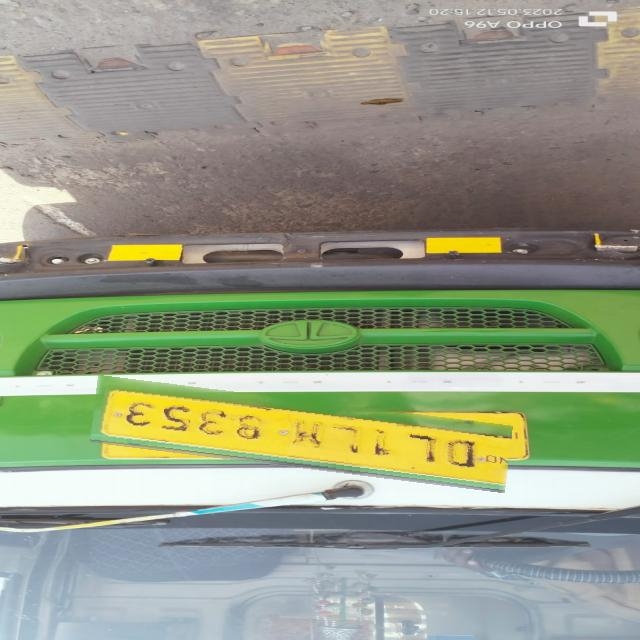License-plate: (91, 388, 512, 480)
